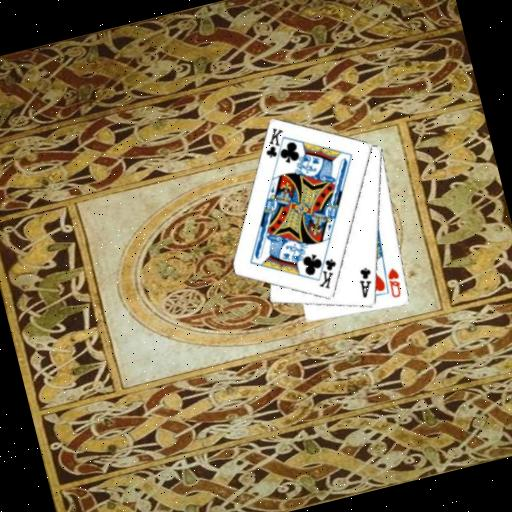AC: (353, 263, 379, 300)
KC: (308, 249, 344, 293), (257, 123, 292, 168)
QH: (383, 264, 406, 301)
